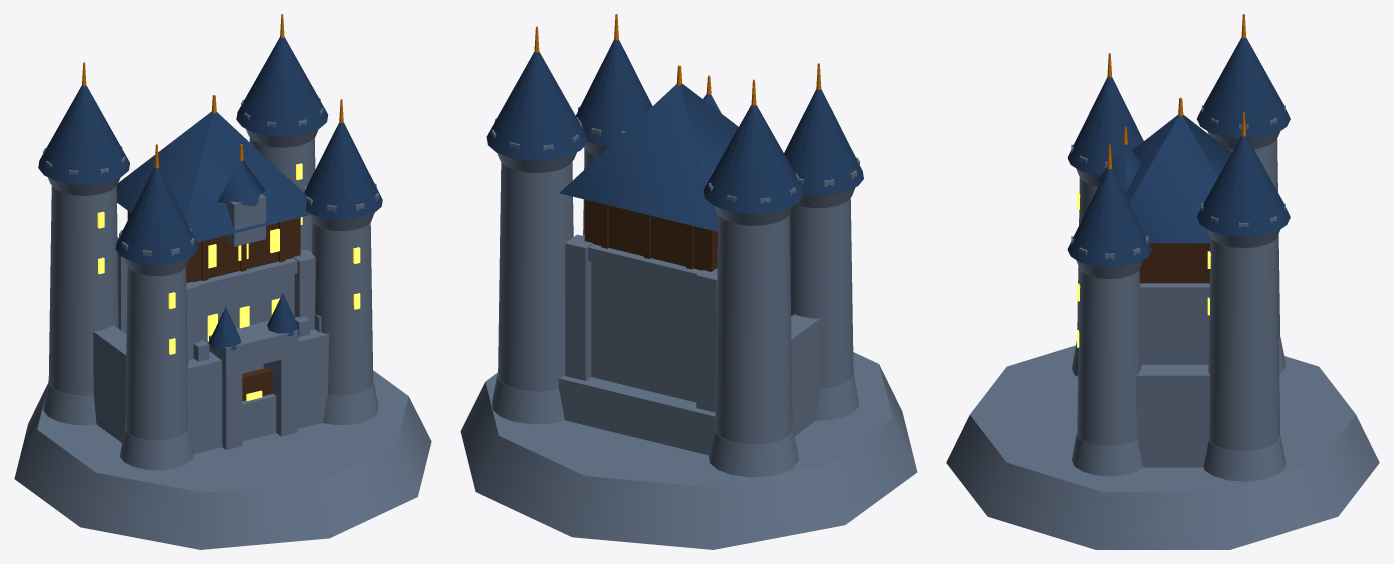
File: fantasy_castle.glb
The picture shows the model from 3 angles, left to right: view 1: azimuth 30°, elevation 25°; view 2: azimuth 150°, elevation 25°; view 3: azimuth 270°, elevation 25°; orthographic projection. The views are drawn at different scales.
Parts seen in each view (by area): view 1: castle_stone, castle_slate, castle_timber, castle_glow, castle_gold; view 2: castle_stone, castle_slate, castle_timber, castle_gold; view 3: castle_stone, castle_slate, castle_timber, castle_gold.
Part boxes in pixels (x1=…): castle_stone: x1=14, y1=98, x2=431, y2=549; castle_slate: x1=38, y1=37, x2=382, y2=350; castle_timber: x1=127, y1=211, x2=300, y2=401; castle_glow: x1=97, y1=163, x2=360, y2=400; castle_gold: x1=82, y1=14, x2=343, y2=168; castle_stone: x1=460, y1=106, x2=917, y2=549; castle_slate: x1=486, y1=40, x2=863, y2=231; castle_timber: x1=584, y1=199, x2=717, y2=271; castle_gold: x1=534, y1=14, x2=821, y2=105; castle_stone: x1=946, y1=105, x2=1379, y2=549; castle_slate: x1=1067, y1=37, x2=1290, y2=267; castle_timber: x1=1139, y1=243, x2=1210, y2=283; castle_gold: x1=1107, y1=14, x2=1245, y2=169.
Size of the model in its own units: 10.46 by 11.18 by 11.
